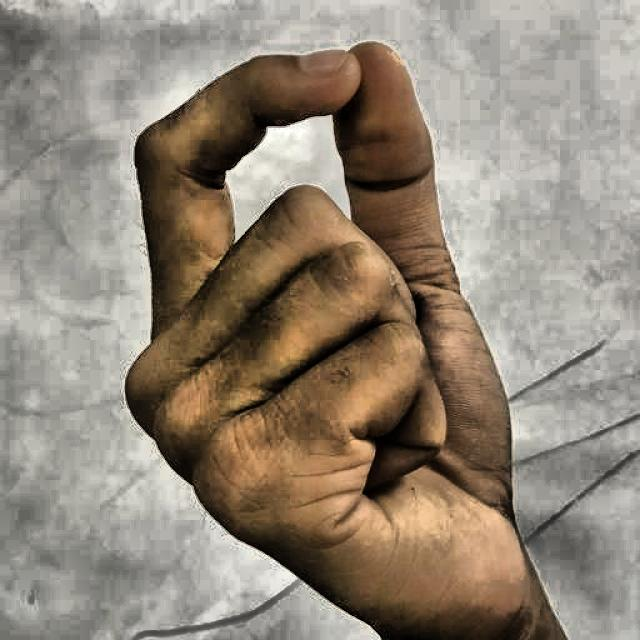Gha: (85, 29, 578, 637)
